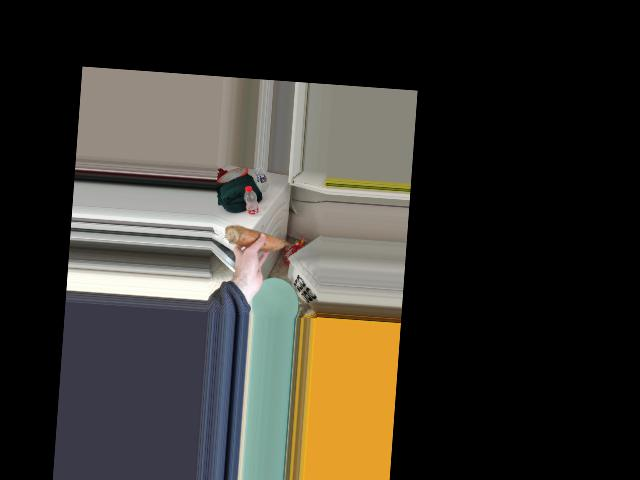sweet_potato: (223, 229, 288, 250)
